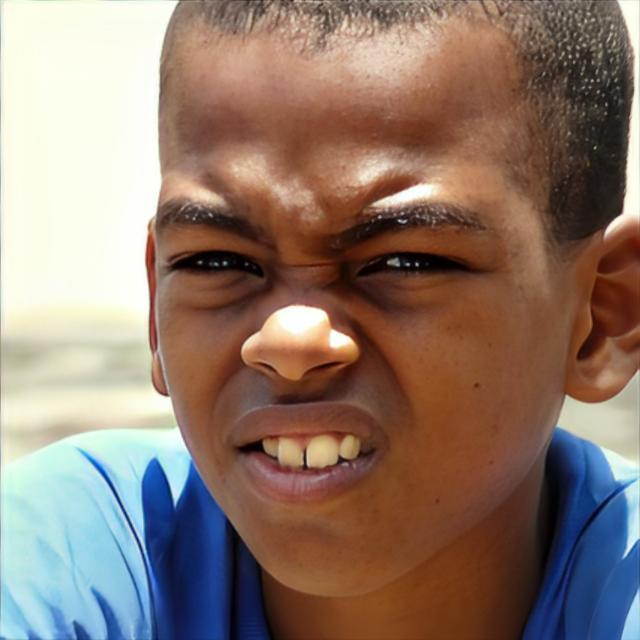disgust: (152, 0, 572, 598)
